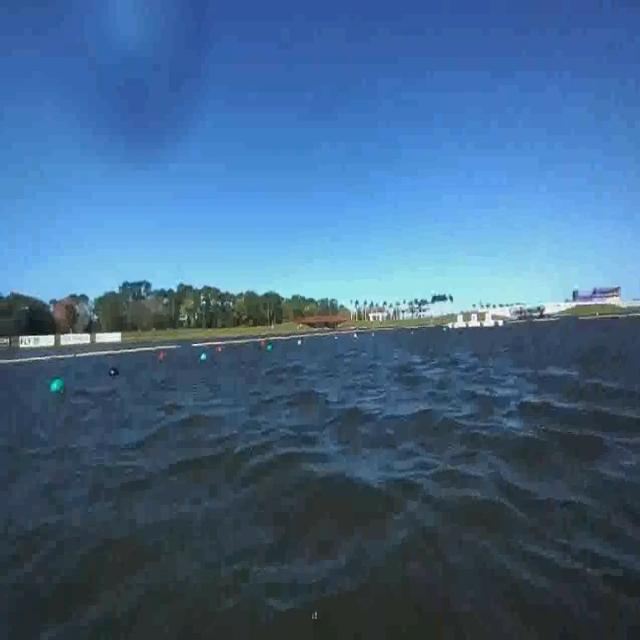green-buoy: (53, 379, 66, 395), (268, 345, 274, 353)
